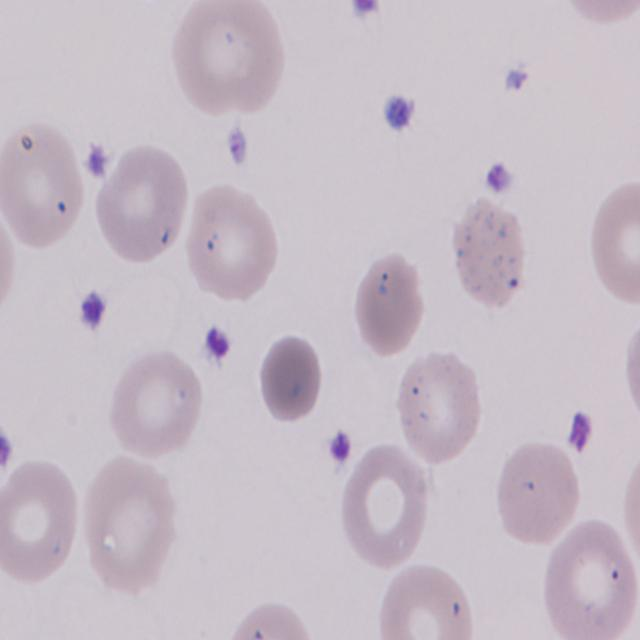RBC: (78, 456, 181, 596), (168, 0, 290, 118), (338, 443, 435, 572), (88, 143, 188, 267), (182, 180, 281, 304), (0, 113, 85, 256), (542, 519, 640, 640), (106, 346, 202, 461), (0, 457, 83, 585), (392, 346, 482, 464), (494, 440, 584, 552), (347, 251, 427, 362), (376, 556, 476, 640), (585, 181, 640, 308), (219, 599, 317, 640), (618, 436, 640, 570), (558, 0, 640, 27), (0, 194, 15, 334), (626, 304, 640, 434)
Spherocyte: (252, 330, 328, 428)
